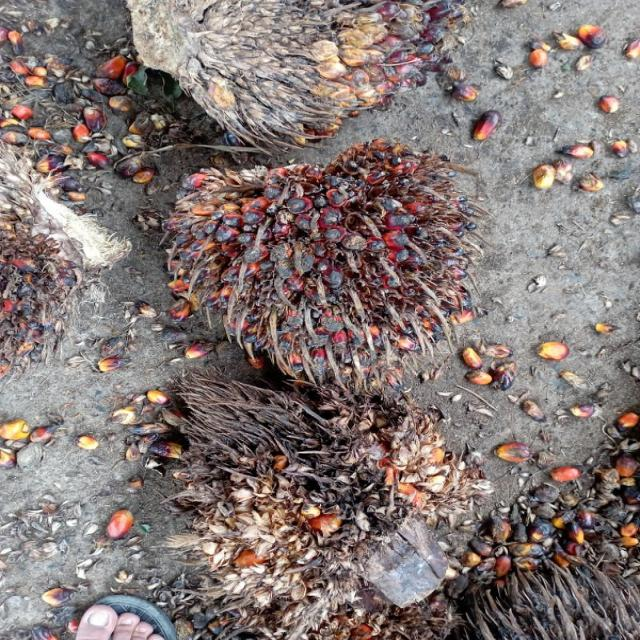fraksi 4: (168, 151, 483, 382), (162, 368, 454, 609)
